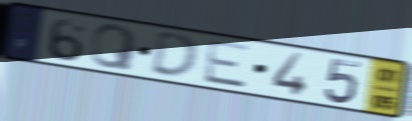4: (268, 50, 310, 99)
5: (322, 56, 365, 105)
6: (47, 16, 88, 63)
D: (147, 31, 201, 81)
E: (201, 38, 254, 91)
Q: (88, 23, 140, 73)
